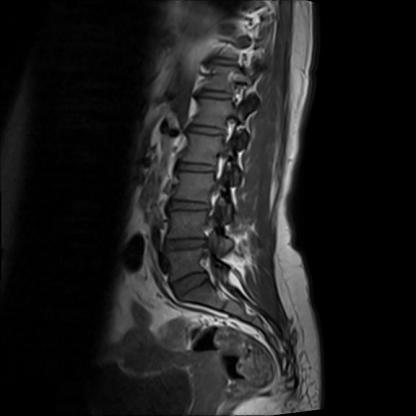Degenerative Disc Diseaserotation: (165, 234, 210, 256)
Disc Herniationrotation: (165, 234, 210, 256)
